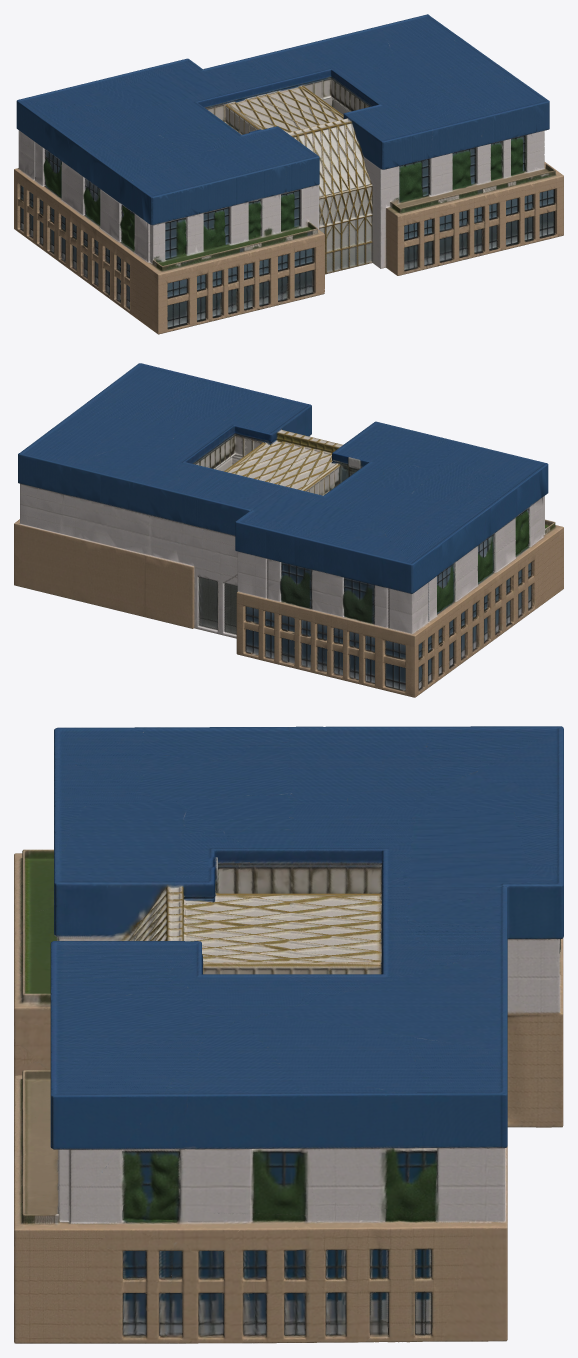
The model's file is bluehall.glb.
3 renders of one model, top to bottom at view 1: azimuth 30°, elevation 25°; view 2: azimuth 150°, elevation 25°; view 3: azimuth 270°, elevation 25°, orthographic. The views are drawn at different scales.
Parts seen in each view (by area): view 1: mesh_node; view 2: mesh_node; view 3: mesh_node.
Boxes of the visible parts, x1,y1,x2,y2 form: mesh_node: [14, 14, 563, 334]; mesh_node: [14, 363, 563, 697]; mesh_node: [14, 726, 563, 1343].
Size of the model in its own units: 1.9 by 0.5775 by 1.18.
1 material, 1 textured.
